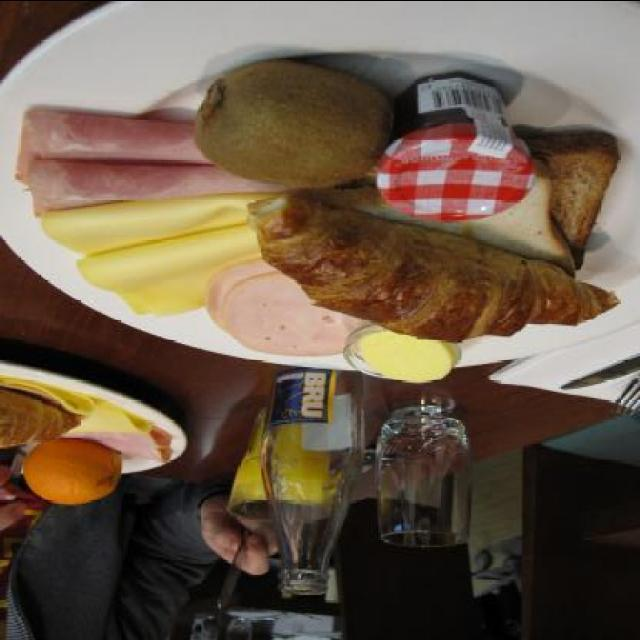Croissant: (234, 175, 584, 338)
